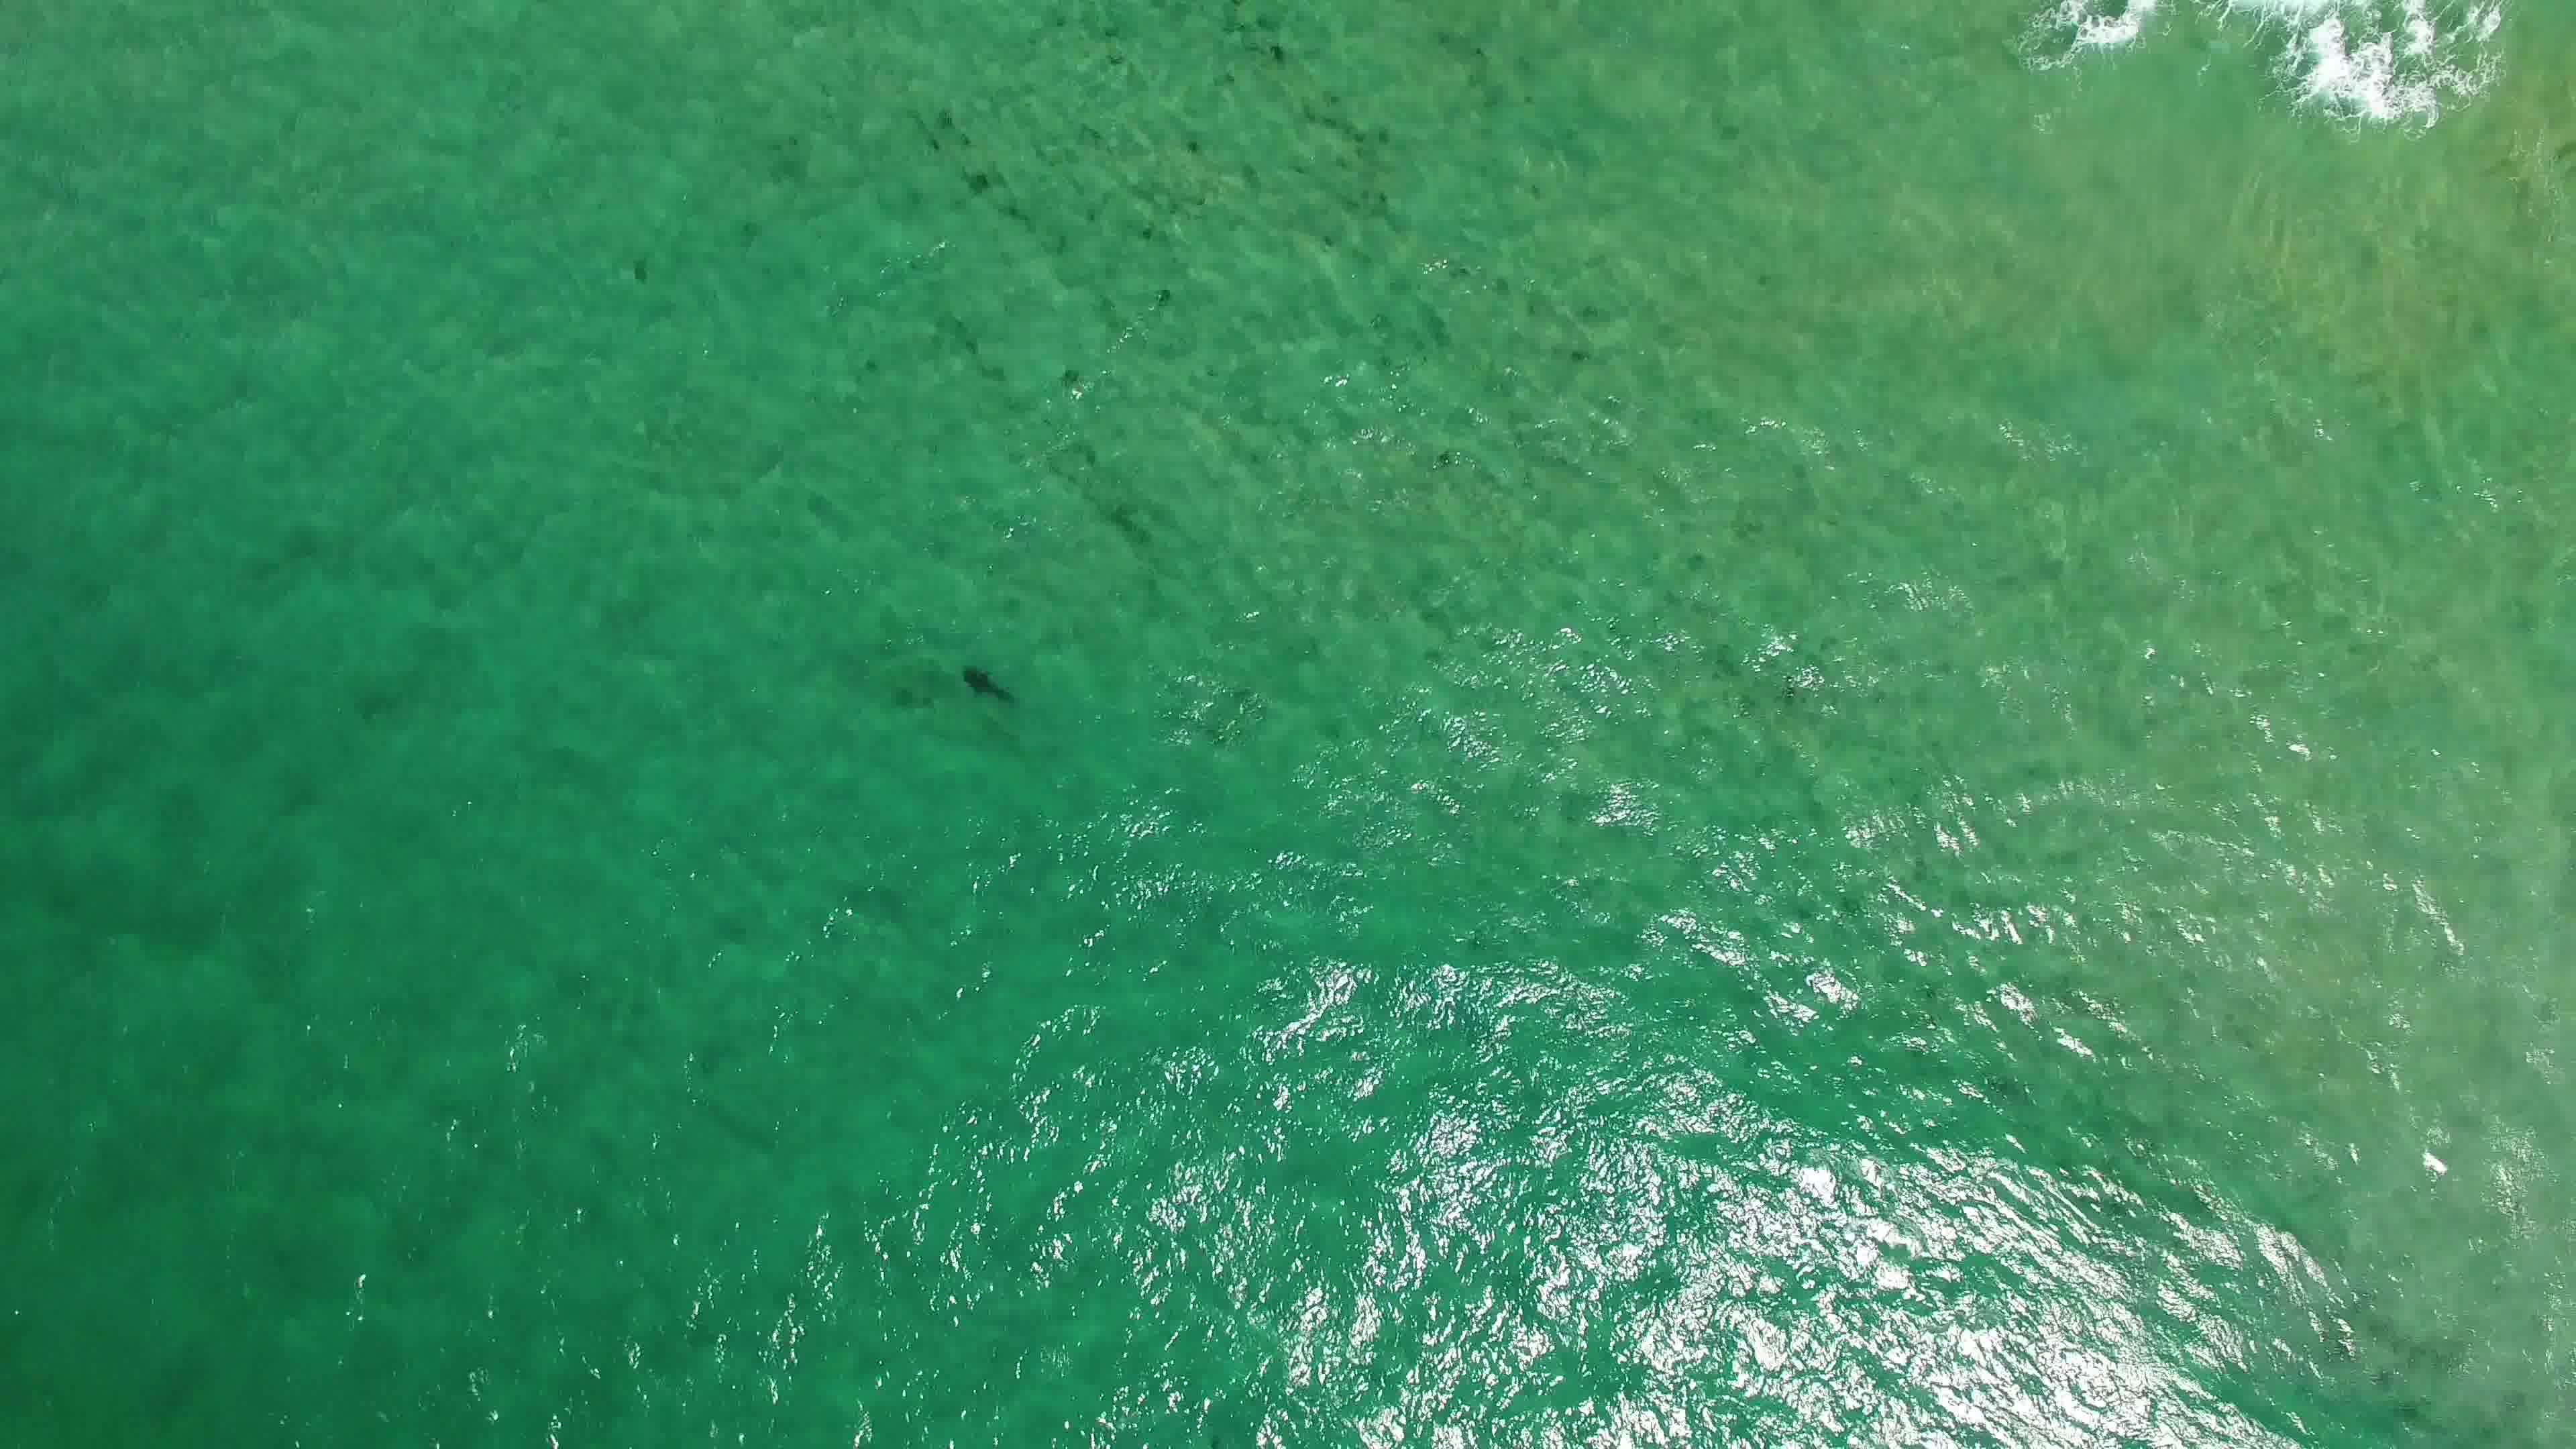shark: (952, 660, 1021, 708)
